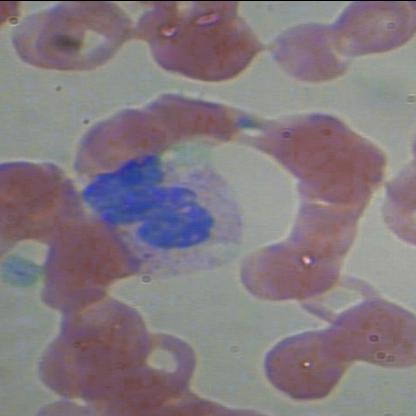RBC: (106, 322, 202, 404), (52, 288, 148, 370), (22, 322, 118, 404), (260, 328, 352, 406), (36, 0, 132, 74), (289, 264, 383, 338), (326, 300, 416, 374), (262, 17, 352, 88), (3, 7, 93, 78), (254, 230, 350, 290), (266, 215, 362, 275), (275, 193, 372, 252), (232, 245, 328, 304), (325, 1, 415, 62), (0, 156, 60, 238), (375, 190, 415, 248), (381, 162, 415, 218)
WBC: (78, 160, 249, 288)
